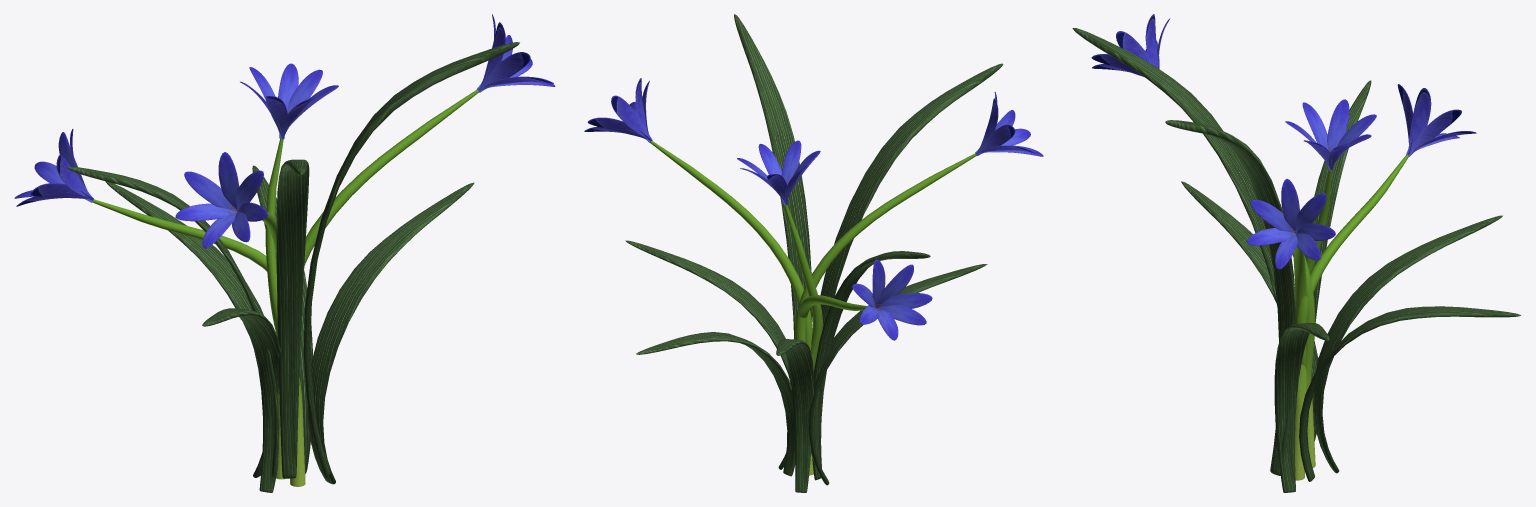
File: blueOrchidTexture.fbx
The picture shows the model from 3 angles, left to right: view 1: azimuth 30°, elevation 25°; view 2: azimuth 150°, elevation 25°; view 3: azimuth 270°, elevation 25°; orthographic projection. The views are drawn at different scales.
Visible parts, largest first — view 1: polySurface34; view 2: polySurface34; view 3: polySurface34.
Part boxes in pixels (bbox=[...]): polySurface34: bbox=[14, 14, 555, 492]; polySurface34: bbox=[584, 14, 1043, 492]; polySurface34: bbox=[1072, 14, 1520, 492].
Size of the model in its own units: 4.67 by 4.44 by 4.23.
Materials: 4 (3 with a texture image).
